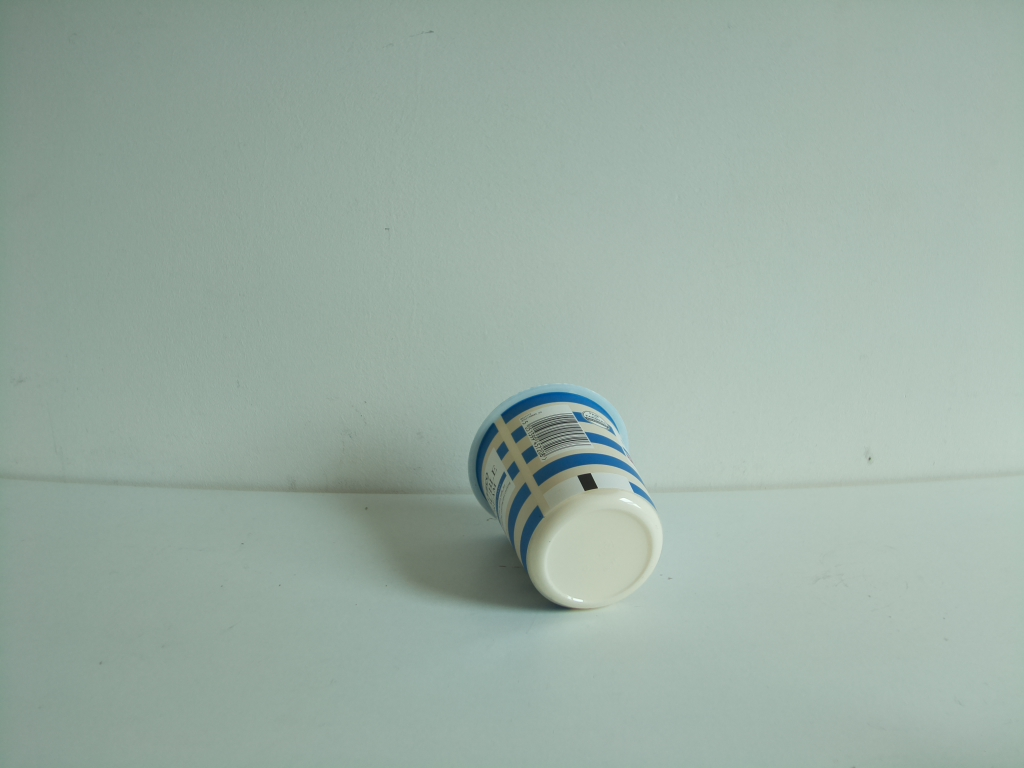cream: (466, 380, 666, 614)
